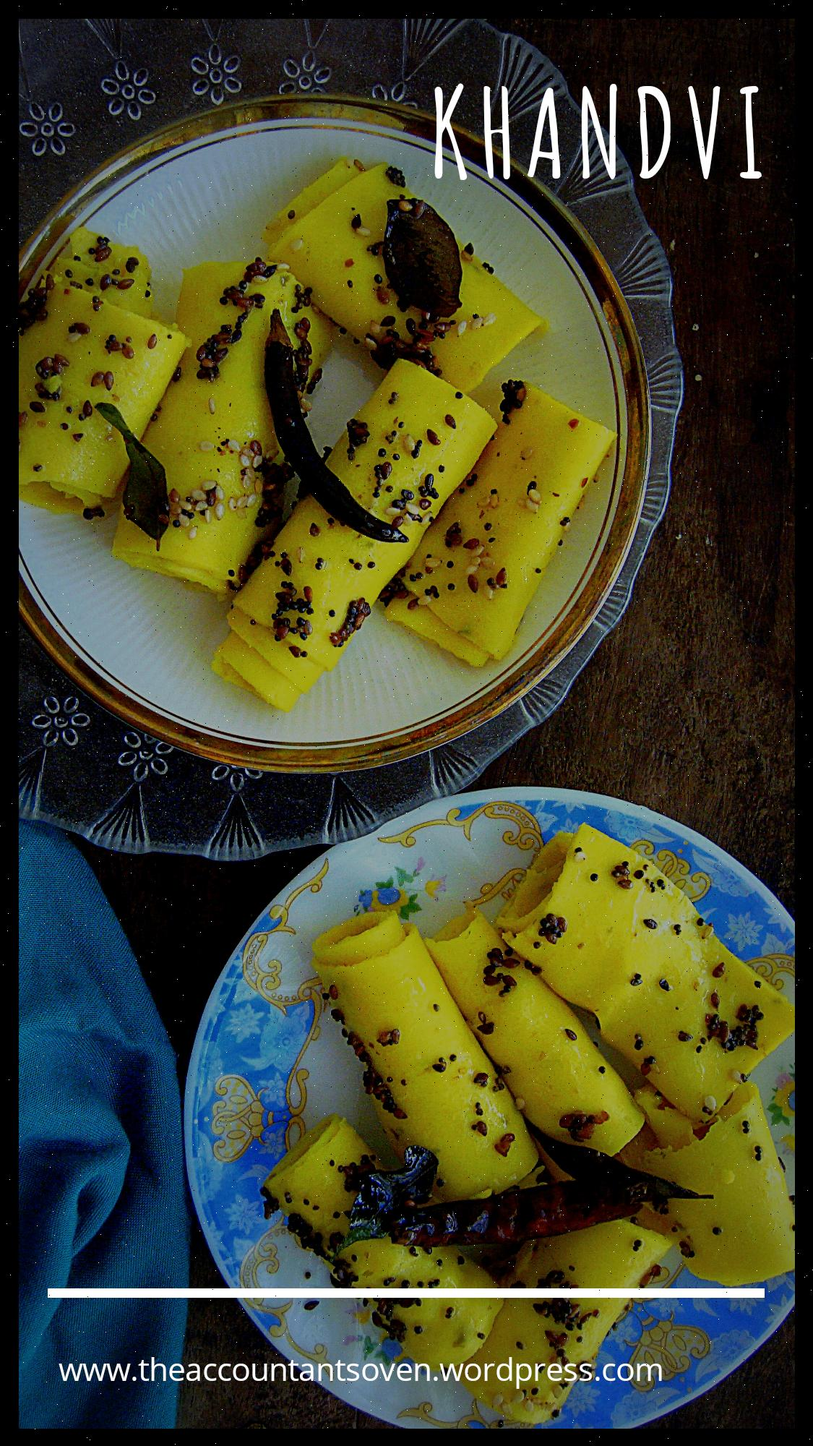khandvi: (33, 177, 575, 669), (293, 886, 734, 1283)
